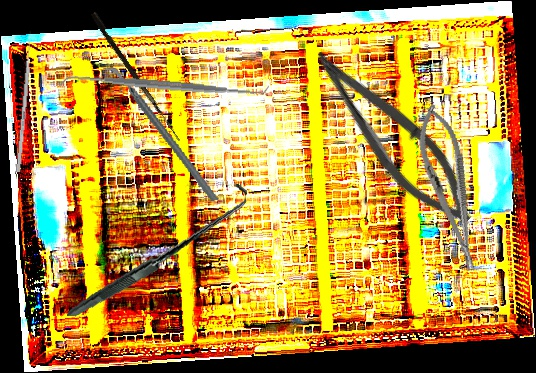Chopper: (101, 48, 220, 220)
Hook Surgical: (66, 165, 248, 336), (88, 11, 186, 142)
Micro Scissor: (291, 38, 493, 239)
Needle Holder: (408, 98, 491, 278)
Pusher: (15, 31, 34, 172)
Spatula Surgical: (58, 64, 270, 107)
